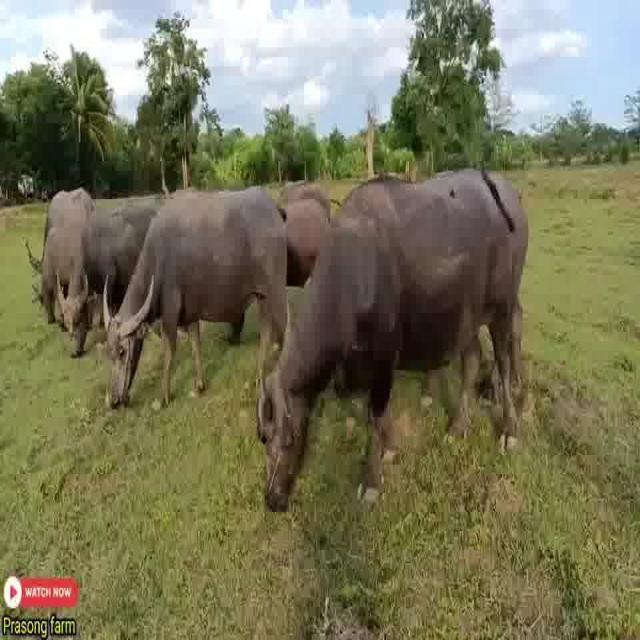buffalo: (255, 166, 536, 522), (111, 181, 294, 415), (32, 180, 101, 328)
